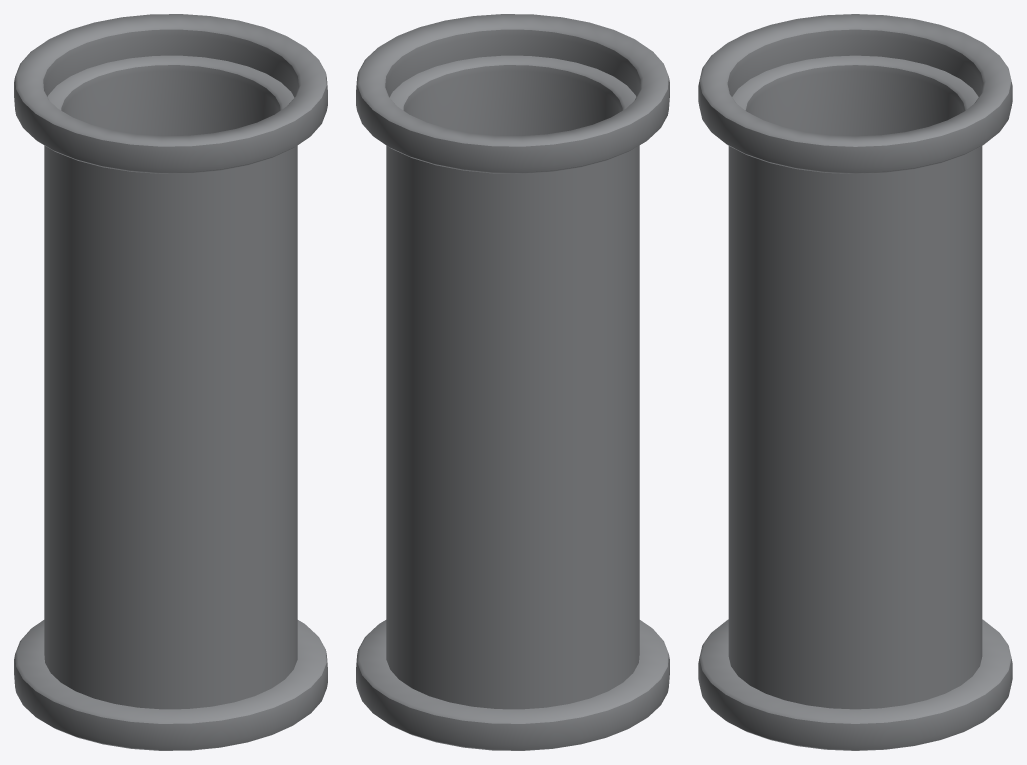
3 views of the same model, side by side, from view 1: azimuth 30°, elevation 25°; view 2: azimuth 150°, elevation 25°; view 3: azimuth 270°, elevation 25° (orthographic).
Visible parts, largest first — view 1: Pipe_Pipe_0; view 2: Pipe_Pipe_0; view 3: Pipe_Pipe_0.
Boxes of the visible parts, x1,y1,x2,y2 form: Pipe_Pipe_0: [14, 14, 327, 750]; Pipe_Pipe_0: [356, 14, 669, 750]; Pipe_Pipe_0: [698, 14, 1012, 750].
Bounding box in the file's own units: 0.0347 × 0.0739 × 0.0347.
Materials: 1 (1 with a texture image).
